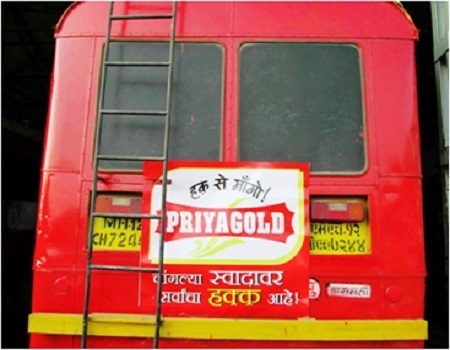bus: (37, 4, 435, 350)
